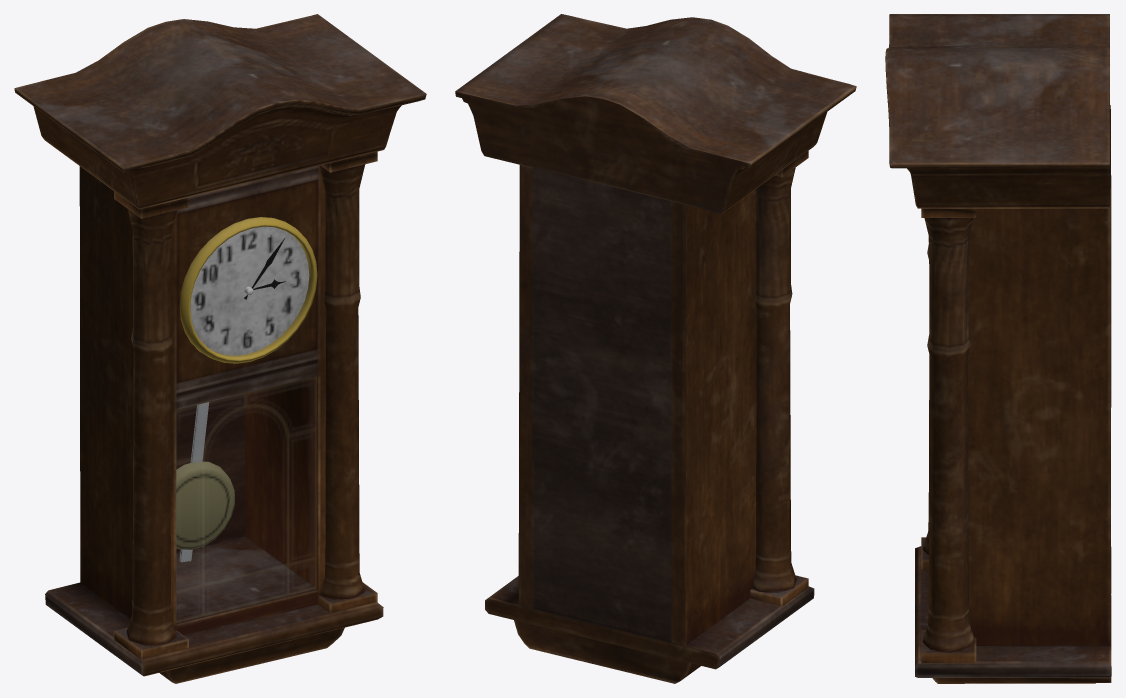
The model's file is wall_clock.glb.
3 views of the same model, side by side, from view 1: azimuth 30°, elevation 25°; view 2: azimuth 150°, elevation 25°; view 3: azimuth 270°, elevation 25° (orthographic). The views are drawn at different scales.
Visible parts, largest first — view 1: Wall_clock, Wall_clock_glass; view 2: Wall_clock; view 3: Wall_clock.
Boxes of the visible parts, x1,y1,x2,y2 form: Wall_clock: [14, 14, 426, 683]; Wall_clock_glass: [176, 376, 316, 621]; Wall_clock: [455, 14, 856, 683]; Wall_clock: [885, 14, 1111, 683].
Bounding box in the file's own units: 0.8122 × 1.5 × 0.5194.
Materials: 2 (2 with a texture image).
